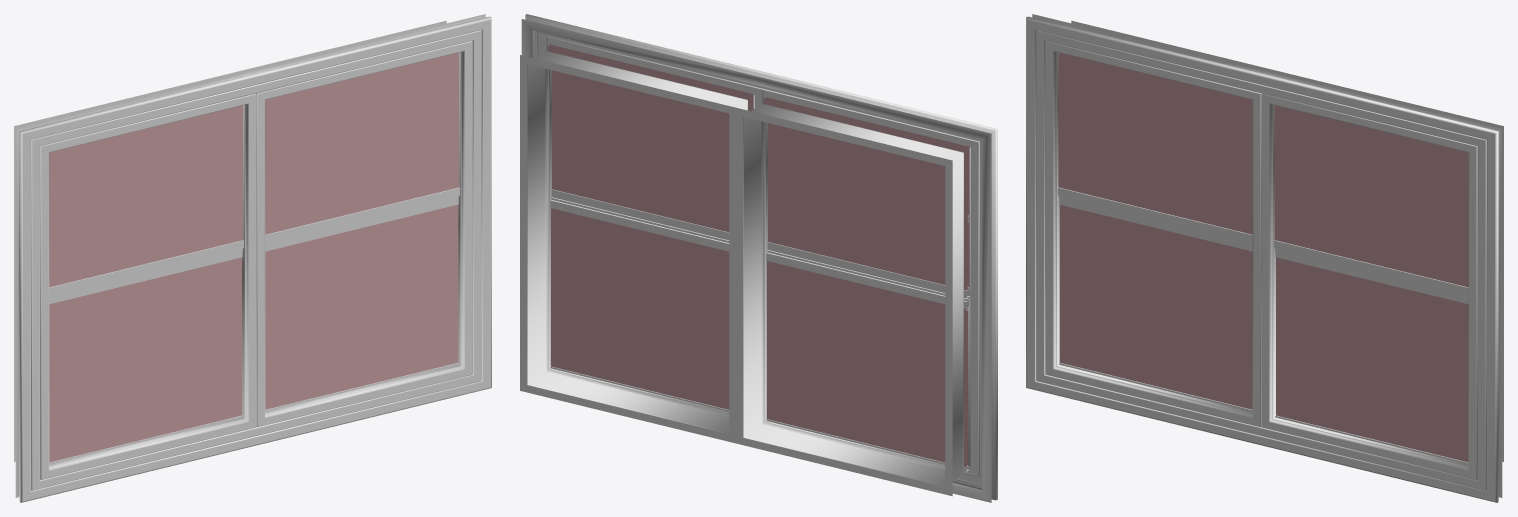
Rendered from WindowDoubleGrilledSlider.fbx.
3 renders of one model, left to right at view 1: azimuth 30°, elevation 25°; view 2: azimuth 150°, elevation 25°; view 3: azimuth 330°, elevation 25°, orthographic.
Parts seen in each view (by area): view 1: Window_LOD0, Slider.001, Slider; view 2: Window_LOD0, Slider, Slider.001; view 3: Window_LOD0, Slider, Slider.001.
Part boxes in pixels (bbox=[...]): Window_LOD0: bbox=[14, 14, 491, 502]; Slider.001: bbox=[265, 197, 458, 411]; Slider: bbox=[49, 249, 242, 464]; Window_LOD0: bbox=[520, 14, 997, 502]; Slider: bbox=[766, 250, 968, 472]; Slider.001: bbox=[550, 197, 729, 411]; Window_LOD0: bbox=[1026, 14, 1503, 502]; Slider: bbox=[1059, 197, 1252, 411]; Slider.001: bbox=[1275, 249, 1468, 464].
Size of what is drawn, in the model's own units: 504 by 379 by 49.03.
